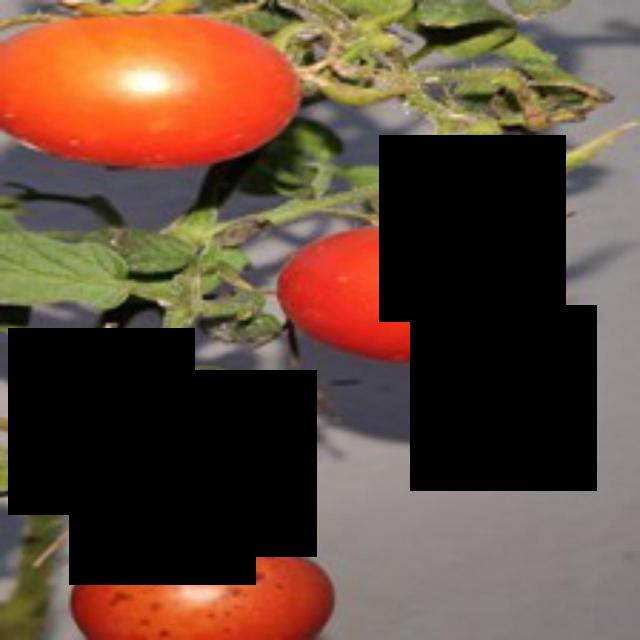tomato: (276, 207, 572, 369), (7, 9, 304, 150), (70, 526, 340, 640)
